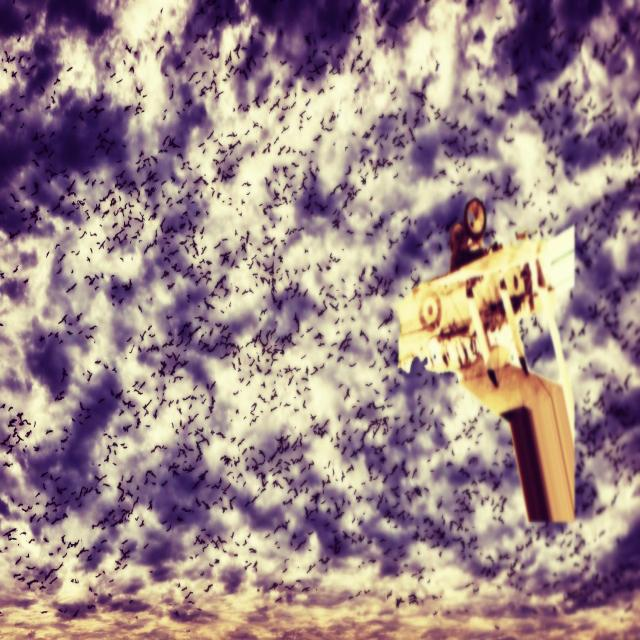airplane: (395, 196, 577, 525)
